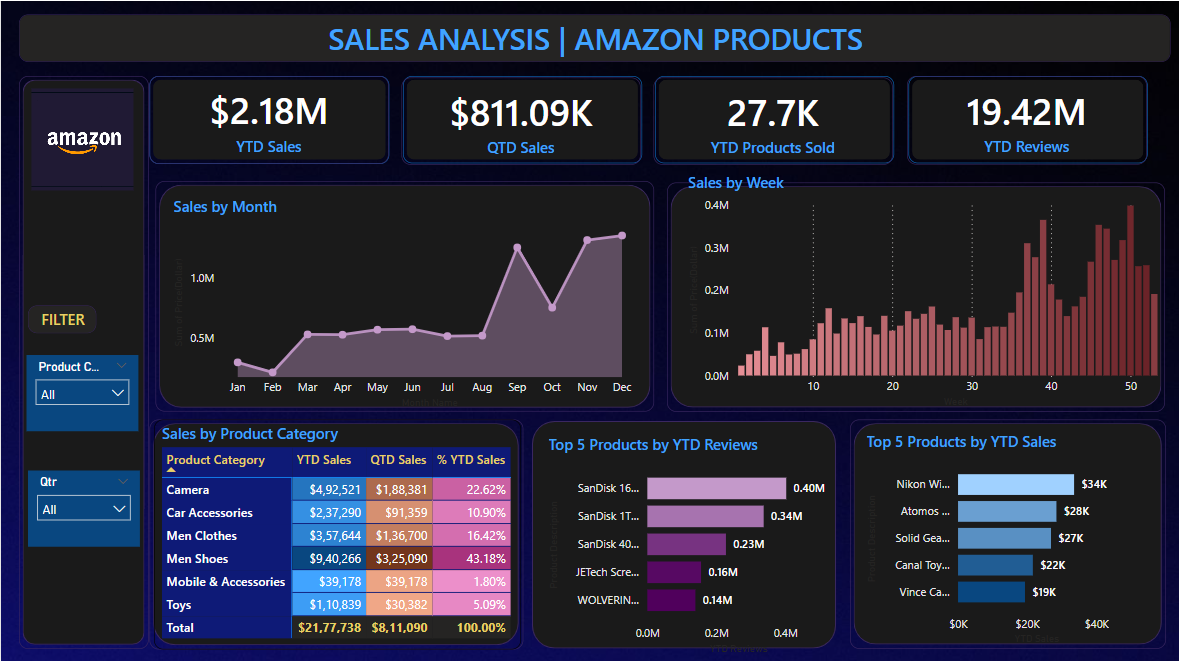

What the dashboard file says about the page in this screenshot:
{"tool":"powerbi","page":{"name":"Page 1","canvas":[1280,720],"ordinal":0},"visuals":[{"type":"shape","box":[161.4,81.8,260,95],"z":0},{"type":"card","fields":{"Values":["Amazon_Data.YTD Sales"]},"box":[161.4,81.4,259.5,95.2],"z":1000,"group":"g1"},{"type":"shape","box":[161,454.2,405.1,249.2],"z":2000},{"type":"shape","title":"SALES ANALYSIS | AMAZON PRODUCTS ","box":[19.1,14.9,1248.9,51.1],"z":3000},{"type":"shape","title":"FILTER","box":[19.1,80.9,140.4,621.3],"z":5000},{"type":"shape","box":[435.4,81.8,259.3,94.9],"z":6000},{"type":"shape","box":[709.4,81.8,259.3,94.9],"z":7000},{"type":"shape","box":[983.4,81.8,259.3,94.9],"z":8000},{"type":"card","fields":{"Values":["Amazon_Data.QTD Sales"]},"box":[435.4,82.3,259.3,94.9],"z":9000,"group":"g1"},{"type":"card","fields":{"Values":["Amazon_Data.YTD Products Sold"]},"box":[708.3,82.3,259.3,94.9],"z":10000,"group":"g1"},{"type":"card","fields":{"Values":["Amazon_Data.YTD Reviews"]},"box":[982.4,81.9,260,95.7],"z":11000,"group":"g1"},{"type":"shape","box":[168.2,195.5,540.9,250],"z":12000},{"type":"areaChart","title":"Sales by Month ","fields":{"Category":["Date Table.Month Name"],"Y":["Sum(Amazon_Data.Price(Dollar))"]},"box":[181.8,211.4,511.4,234.1],"z":13000},{"type":"shape","box":[722.9,197.1,540,248.6],"z":14000},{"type":"columnChart","title":"Sales by Week","fields":{"Category":["Date Table.Week"],"Y":["Sum(Amazon_Data.Price(Dollar))"]},"box":[740.4,185.1,540.4,259.6],"z":15000},{"type":"pivotTable","title":"Sales by Product Category","fields":{"Rows":["Amazon_Data.Product Category"],"Values":["Amazon_Data.YTD Sales","Amazon_Data.QTD Sales","Amazon_Data.YTD Sales1"]},"box":[166.1,454.2,398.3,249.2],"z":16000},{"type":"shape","box":[920,454.3,342.9,248.6],"z":17000},{"type":"shape","box":[576.6,455.3,329.8,246.8],"z":18000},{"type":"clusteredBarChart","title":"Top 5 Products by YTD Reviews","fields":{"Category":["Amazon_Data.Product Description"],"Y":["Amazon_Data.YTD Reviews"]},"box":[589.4,470.2,329.8,242.6],"z":19000},{"type":"clusteredBarChart","title":"Top 5 Products by YTD Sales ","fields":{"Category":["Amazon_Data.Product Description"],"Y":["Amazon_Data.YTD Sales"]},"box":[934.3,467.1,294.3,235.7],"z":20000},{"type":"slicer","fields":{"Values":["Amazon_Data.Product Category"]},"box":[27.1,384.3,121.4,82.9],"z":21000},{"type":"slicer","fields":{"Values":["Date Table.Qtr"]},"box":[28.6,508.6,121.4,82.9],"z":21001},{"type":"image","box":[27.7,89.4,121.3,121.3],"z":21002},{"type":"shape","title":"FILTER","box":[28.6,330,74.3,30],"z":21003},{"type":"group","id":"g1","title":"Group 1","box":[161.4,81.4,1081.4,95.7],"z":21004}]}

Visuals, with their boxes in screenshot pixels (x1, y1, x2, y2), scaled from the page's 1280x720 canvas onto the 1179x661 screenshot:
shape: {"x1": 149, "y1": 75, "x2": 388, "y2": 162}
card - Amazon_Data.YTD Sales: {"x1": 149, "y1": 75, "x2": 388, "y2": 162}
shape: {"x1": 148, "y1": 417, "x2": 521, "y2": 646}
"SALES ANALYSIS | AMAZON PRODUCTS " shape: {"x1": 18, "y1": 14, "x2": 1168, "y2": 61}
"FILTER" shape: {"x1": 18, "y1": 74, "x2": 147, "y2": 645}
shape: {"x1": 401, "y1": 75, "x2": 640, "y2": 162}
shape: {"x1": 653, "y1": 75, "x2": 892, "y2": 162}
shape: {"x1": 906, "y1": 75, "x2": 1145, "y2": 162}
card - Amazon_Data.QTD Sales: {"x1": 401, "y1": 76, "x2": 640, "y2": 163}
card - Amazon_Data.YTD Products Sold: {"x1": 652, "y1": 76, "x2": 891, "y2": 163}
card - Amazon_Data.YTD Reviews: {"x1": 905, "y1": 75, "x2": 1144, "y2": 163}
shape: {"x1": 155, "y1": 179, "x2": 653, "y2": 409}
"Sales by Month " areaChart: {"x1": 167, "y1": 194, "x2": 639, "y2": 409}
shape: {"x1": 666, "y1": 181, "x2": 1163, "y2": 409}
"Sales by Week" columnChart: {"x1": 682, "y1": 170, "x2": 1178, "y2": 408}
"Sales by Product Category" pivotTable: {"x1": 153, "y1": 417, "x2": 520, "y2": 646}
shape: {"x1": 847, "y1": 417, "x2": 1163, "y2": 645}
shape: {"x1": 531, "y1": 418, "x2": 835, "y2": 645}
"Top 5 Products by YTD Reviews" clusteredBarChart: {"x1": 543, "y1": 432, "x2": 847, "y2": 654}
"Top 5 Products by YTD Sales " clusteredBarChart: {"x1": 861, "y1": 429, "x2": 1132, "y2": 645}
slicer - Amazon_Data.Product Category: {"x1": 25, "y1": 353, "x2": 137, "y2": 429}
slicer - Date Table.Qtr: {"x1": 26, "y1": 467, "x2": 138, "y2": 543}
image: {"x1": 26, "y1": 82, "x2": 137, "y2": 193}
"FILTER" shape: {"x1": 26, "y1": 303, "x2": 95, "y2": 330}
"Group 1" group: {"x1": 149, "y1": 75, "x2": 1145, "y2": 163}
